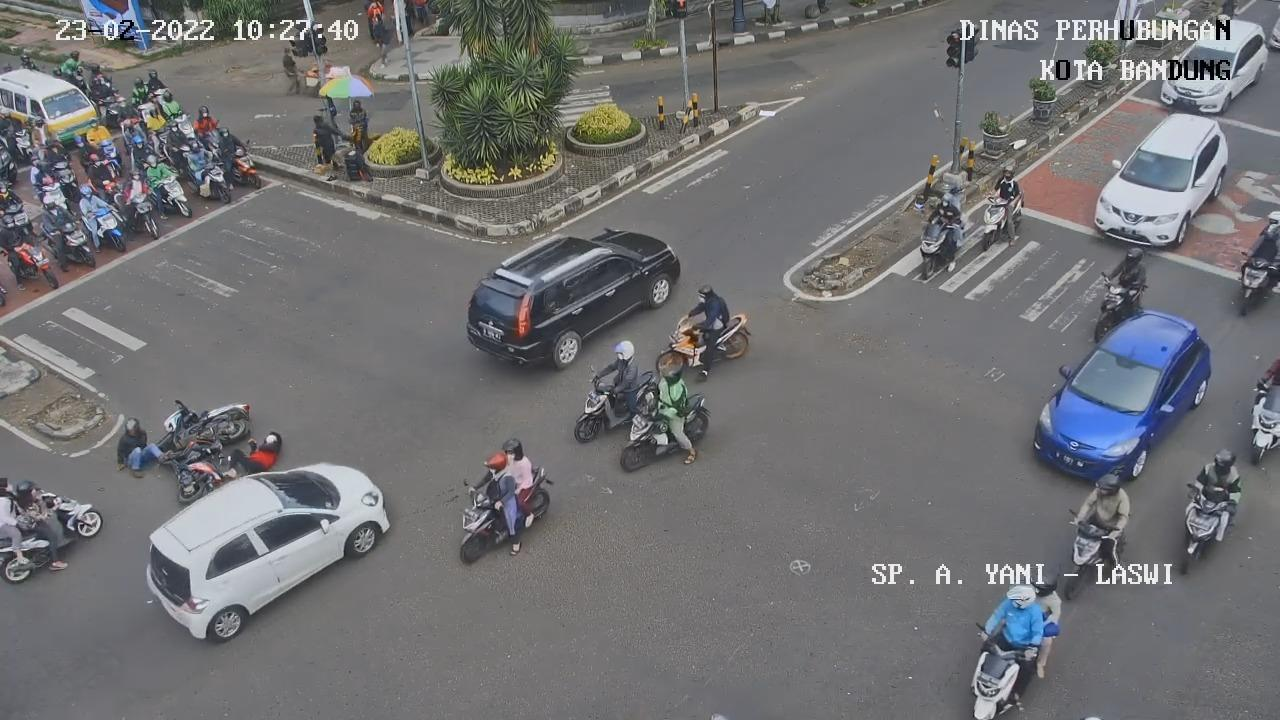accident: (117, 416, 168, 479), (222, 431, 283, 479)
